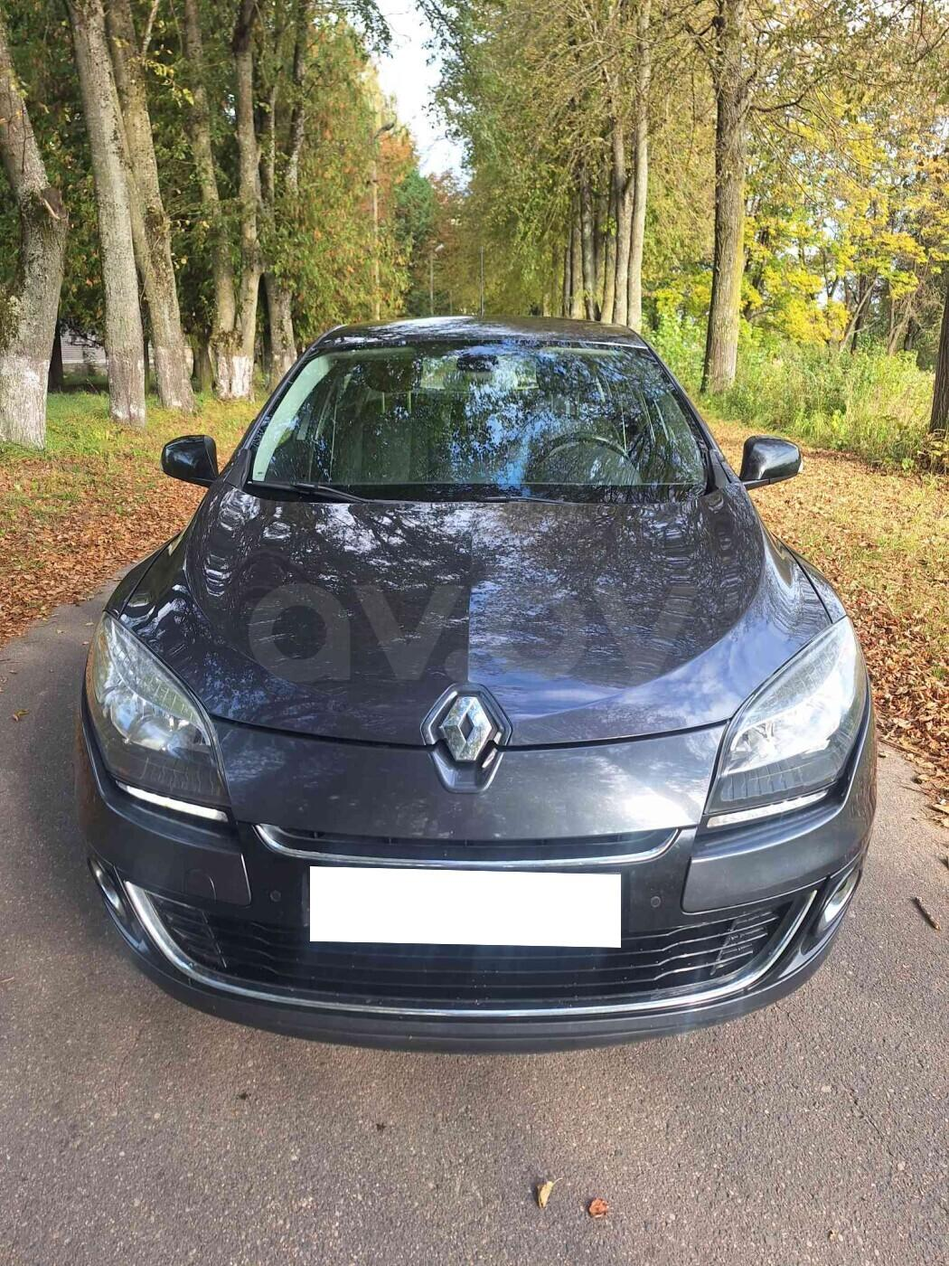Megane_2012-2014: (74, 309, 875, 1054)
